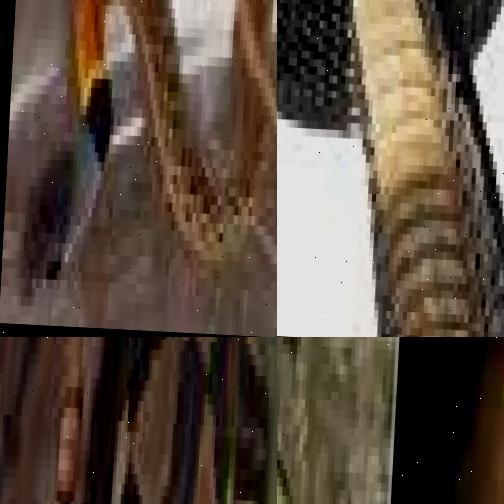snake: (0, 0, 277, 337), (277, 0, 504, 337), (0, 337, 277, 504), (432, 337, 504, 504)
